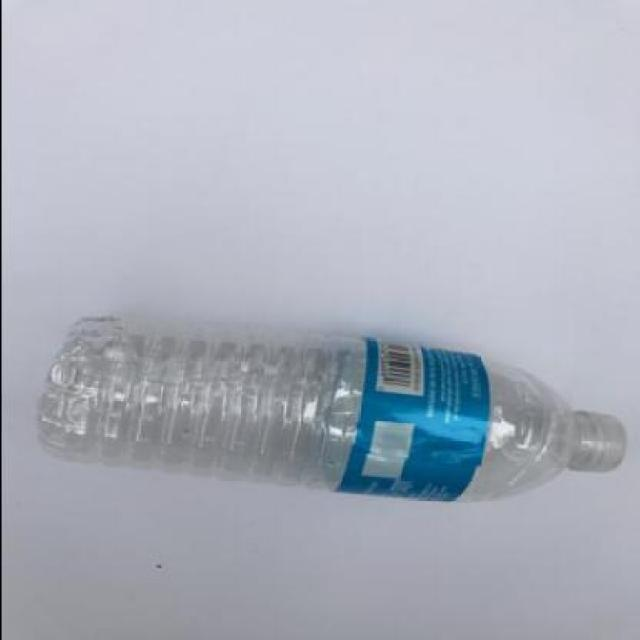PLASTIC: (32, 314, 623, 503), (324, 338, 484, 500), (565, 410, 623, 473)
